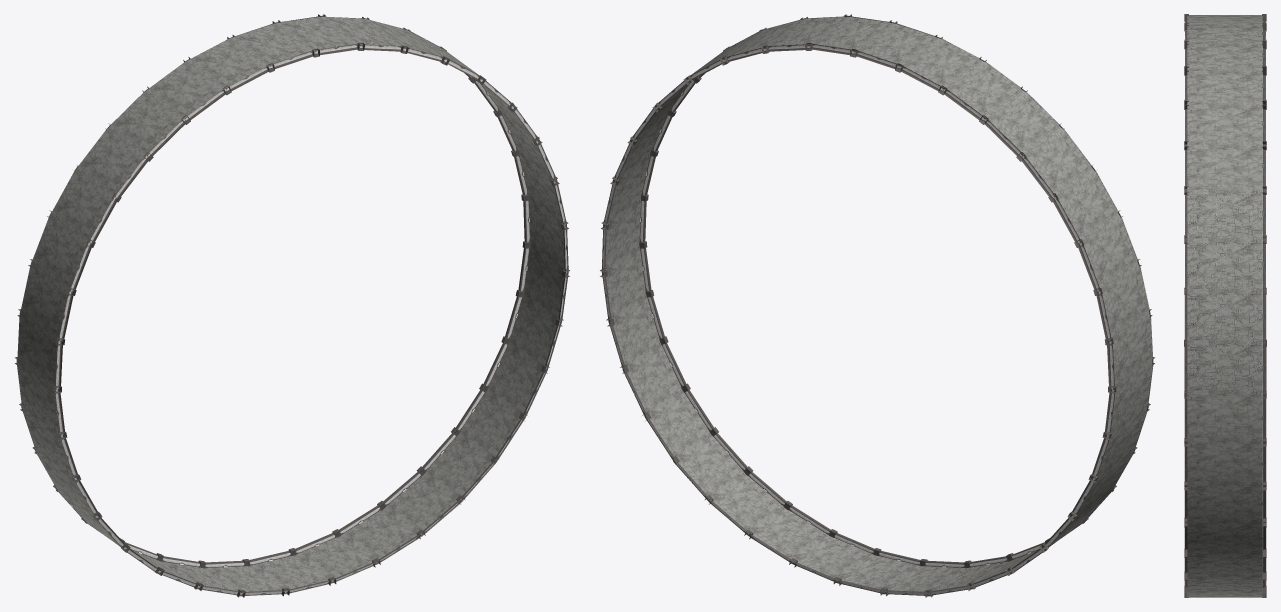
The model's file is station.fbx.
The picture shows the model from 3 angles, left to right: view 1: azimuth 30°, elevation 25°; view 2: azimuth 150°, elevation 25°; view 3: azimuth 270°, elevation 25°; orthographic projection.
Visible parts, largest first — view 1: station; view 2: station; view 3: station.
Boxes of the visible parts, box(x1,y1,x2,y2) form: station: box(15, 14, 569, 597); station: box(600, 14, 1154, 597); station: box(1184, 14, 1266, 597).
Size of the model in its own units: 10.72 by 10.72 by 1.52.
